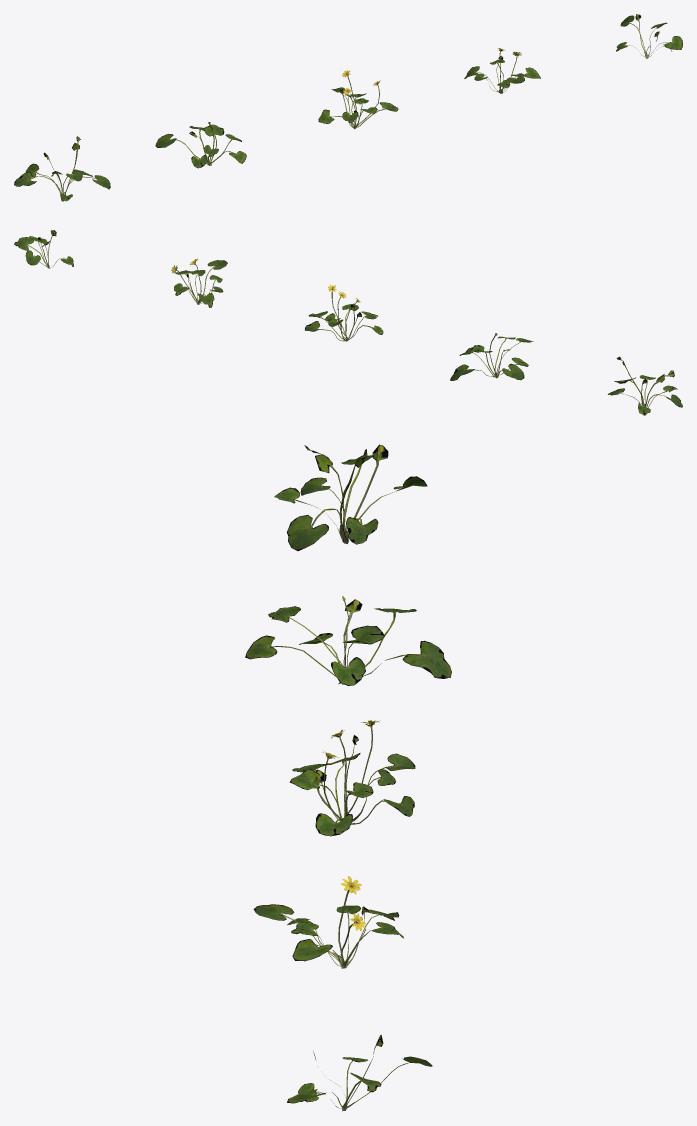
Rendered from celandine_01.glb.
3 renders of one model, top to bottom at view 1: azimuth 30°, elevation 25°; view 2: azimuth 150°, elevation 25°; view 3: azimuth 270°, elevation 25°, orthographic. The views are drawn at different scales.
Parts seen in each view (by area): view 1: celandine_01_b_LOD0, celandine_01_c_LOD0, celandine_01_a_LOD0, celandine_01_d_LOD0, celandine_01_e_LOD0; view 2: celandine_01_c_LOD0, celandine_01_b_LOD0, celandine_01_d_LOD0, celandine_01_a_LOD0, celandine_01_e_LOD0; view 3: celandine_01_b_LOD0, celandine_01_a_LOD0, celandine_01_c_LOD0, celandine_01_d_LOD0, celandine_01_e_LOD0.
Part boxes in pixels (box(x1,y1,x2,y2)): celandine_01_b_LOD0: box(155, 122, 246, 168); celandine_01_c_LOD0: box(318, 70, 398, 129); celandine_01_a_LOD0: box(14, 136, 110, 201); celandine_01_d_LOD0: box(464, 48, 540, 93); celandine_01_e_LOD0: box(616, 14, 682, 58); celandine_01_c_LOD0: box(304, 284, 383, 341); celandine_01_b_LOD0: box(450, 333, 533, 380); celandine_01_d_LOD0: box(171, 258, 227, 307); celandine_01_a_LOD0: box(608, 356, 682, 415); celandine_01_e_LOD0: box(14, 230, 73, 268); celandine_01_b_LOD0: box(245, 596, 451, 685); celandine_01_a_LOD0: box(274, 444, 427, 550); celandine_01_c_LOD0: box(289, 720, 415, 836); celandine_01_d_LOD0: box(253, 876, 403, 968); celandine_01_e_LOD0: box(287, 1035, 432, 1111).
Size of the model in its own units: 2.24 by 0.1859 by 0.3067.
Materials: 1 (1 with a texture image).
